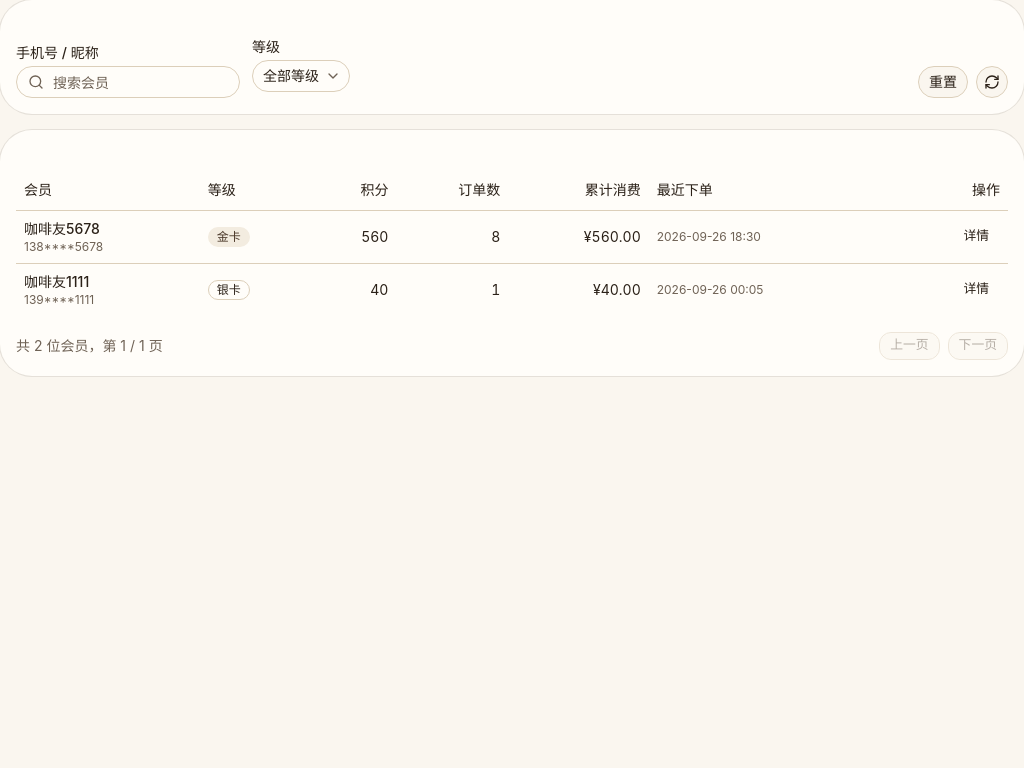
Test: MembersPage › 会员详情展示积分、订单与优惠券
expect the text "咖啡友5678" is shown: met, box [24,220,100,236]
Click the button "详情" in the row of "咖啡友5678": click(976, 236) [952,222,1000,250]
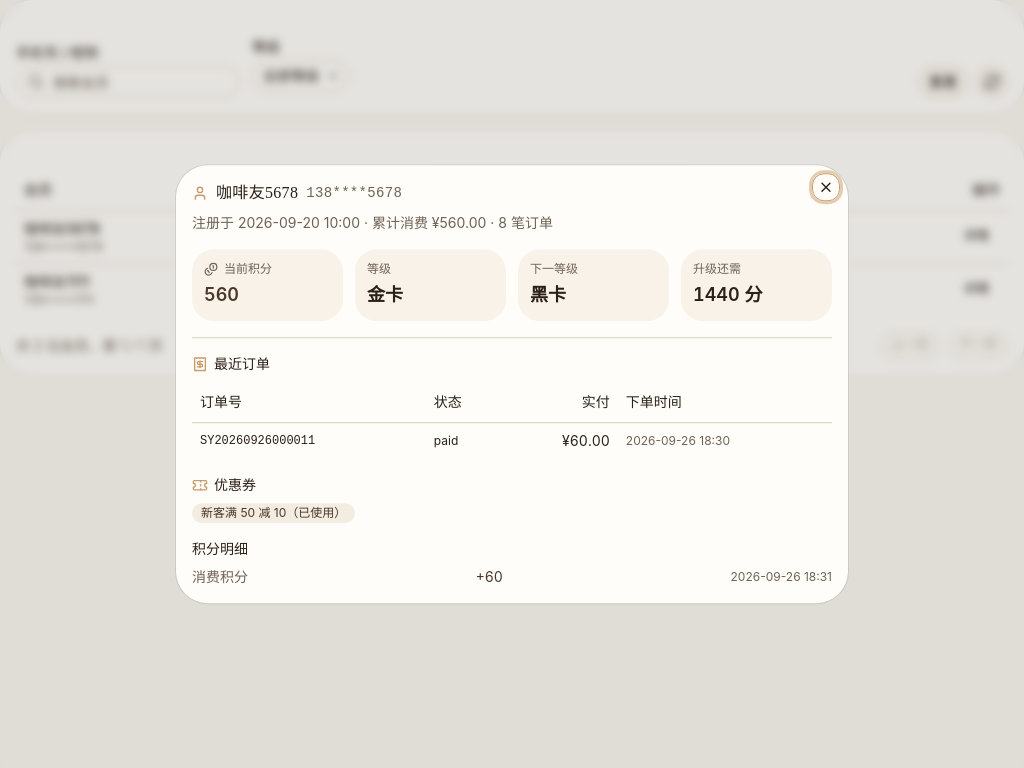
expect the text "138****5678" is shown: met, box [306,183,402,203]
expect the text "SY20260926000011" is shown: met, box [192,422,426,459]
expect the text "¥60.00" is shown: met, box [504,422,618,459]
